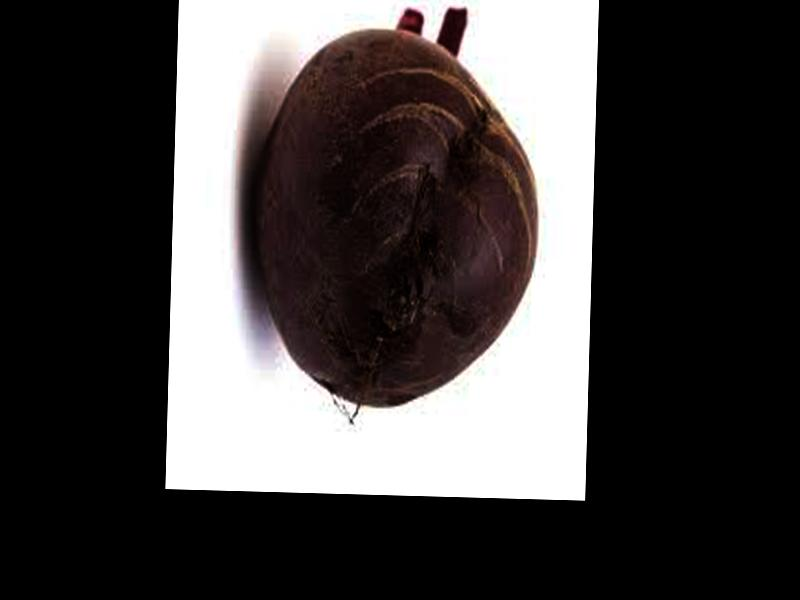Beet: (243, 6, 545, 412)
